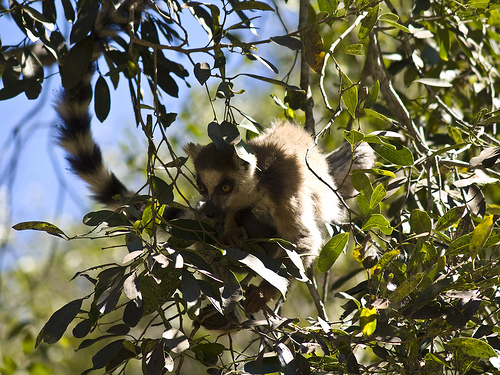cat: (52, 3, 376, 253)
